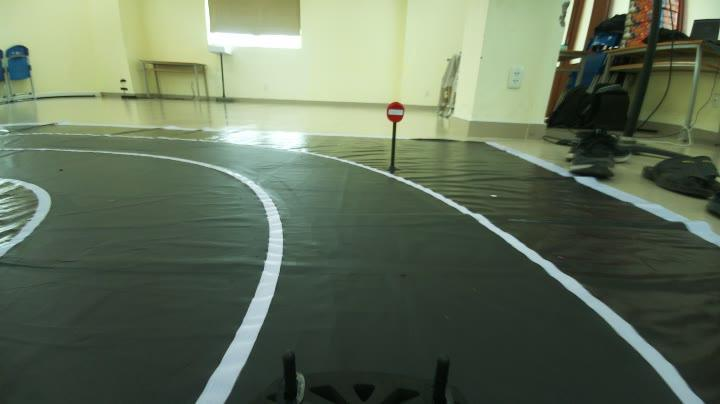no_entry: (381, 99, 409, 125)
